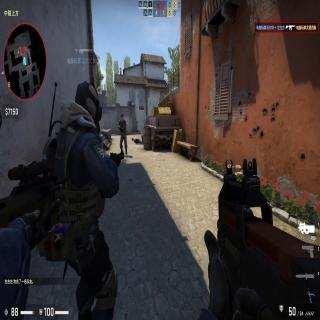CT-Head: (76, 80, 103, 134)
T-Body: (118, 112, 128, 154)
T-Head: (120, 112, 124, 121), (131, 136, 134, 141)
